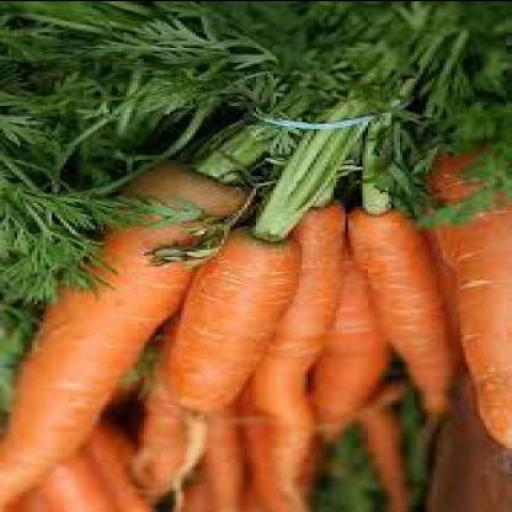biodegradable: (1, 158, 244, 510), (247, 1, 511, 239), (187, 1, 468, 181), (5, 1, 253, 190), (130, 222, 290, 497), (244, 195, 343, 510), (420, 139, 509, 447), (348, 202, 454, 426), (6, 176, 192, 294), (426, 2, 509, 226), (304, 234, 386, 442), (348, 1, 420, 212), (0, 62, 38, 408), (360, 373, 417, 511), (78, 409, 150, 510), (314, 432, 385, 510), (196, 398, 245, 510), (34, 454, 110, 511), (397, 386, 429, 509), (178, 458, 213, 511), (17, 491, 43, 510)
